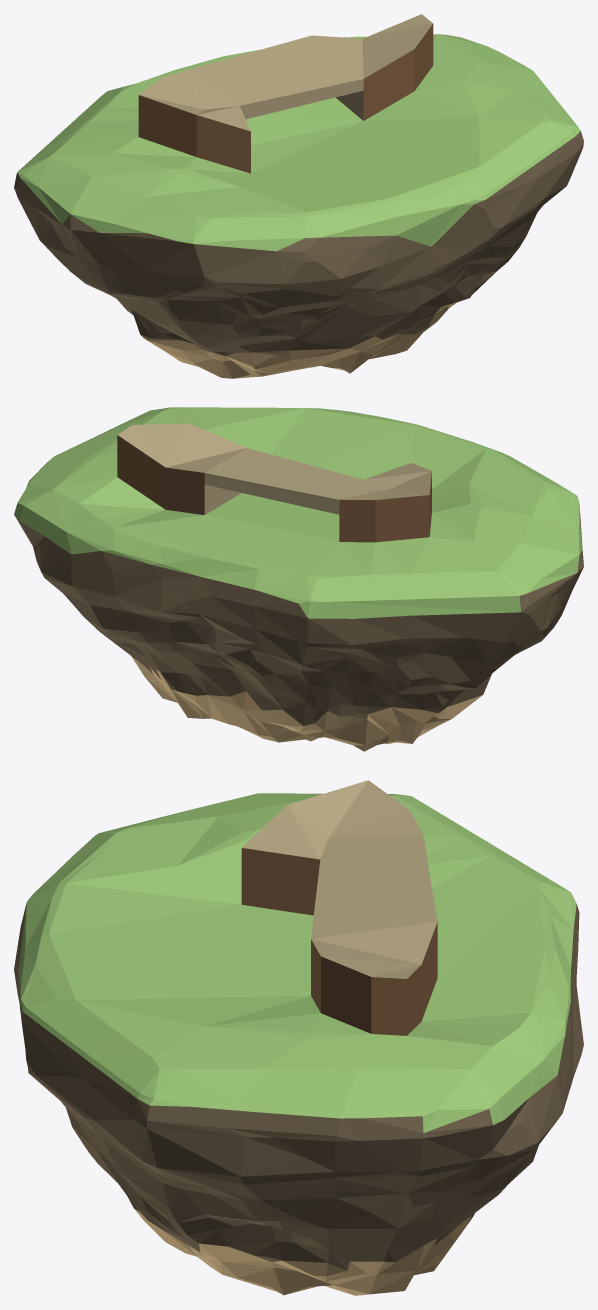
Rendered from floating island 4.fbx.
3 renders of one model, top to bottom at view 1: azimuth 30°, elevation 25°; view 2: azimuth 150°, elevation 25°; view 3: azimuth 270°, elevation 25°, orthographic. The views are drawn at different scales.
Visible parts, largest first — view 1: polySurface4; view 2: polySurface4; view 3: polySurface4.
Boxes of the visible parts, box(x1,y1,x2,y2) form: polySurface4: box(14, 14, 583, 378); polySurface4: box(14, 407, 583, 751); polySurface4: box(14, 780, 583, 1295).
Size of the model in its own units: 11.59 by 6.01 by 8.49.
